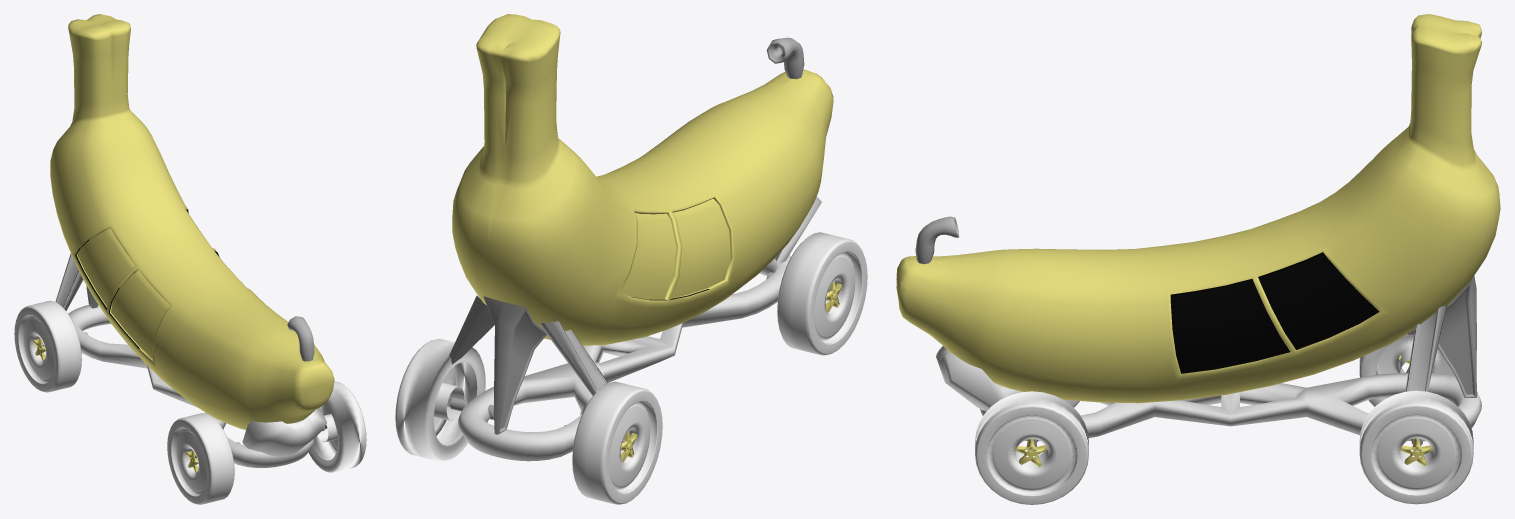
File: Banana_Z_D.fbx
3 views of the same model, side by side, from view 1: azimuth 30°, elevation 25°; view 2: azimuth 150°, elevation 25°; view 3: azimuth 270°, elevation 25° (orthographic). The views are drawn at different scales.
Parts seen in each view (by area): view 1: polySurface18, polySurface3 (×2), pCube1, polySurface4, polySurface15, polySurface9, pCylinder1; view 2: polySurface18, polySurface3 (×2), pCube1, polySurface4, polySurface17, polySurface9, pCylinder1, polySurface15; view 3: polySurface18, polySurface4 (×2), pCube1, polySurface17, polySurface15, polySurface9, polySurface3, pCylinder1.
Part boxes in pixels (box(x1,y1,x2,y2)): polySurface18: box(50, 14, 334, 429); polySurface3 (×2): box(14, 300, 234, 504); pCube1: box(68, 305, 314, 467); polySurface4: box(308, 381, 366, 472); polySurface15: box(242, 407, 327, 456); polySurface9: box(55, 253, 83, 310); pCylinder1: box(287, 316, 314, 361); polySurface18: box(452, 14, 833, 345); polySurface3 (×2): box(572, 232, 867, 504); pCube1: box(458, 255, 790, 461); polySurface4: box(395, 338, 485, 461); polySurface17: box(483, 296, 546, 434); polySurface9: box(449, 295, 607, 396); pCylinder1: box(766, 37, 804, 79); polySurface15: box(775, 196, 821, 263); polySurface18: box(896, 14, 1500, 403); polySurface4 (×2): box(975, 390, 1473, 504); pCube1: box(980, 373, 1481, 441); polySurface17: box(1437, 276, 1477, 397); polySurface15: box(936, 346, 1005, 410); polySurface9: box(1405, 304, 1447, 391); polySurface3: box(1359, 334, 1454, 406); pCylinder1: box(915, 216, 959, 264).
Size of the model in its own units: 3.9 by 8.2 by 10.39.
